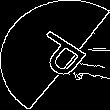P_SE: (19, 25, 91, 85)
